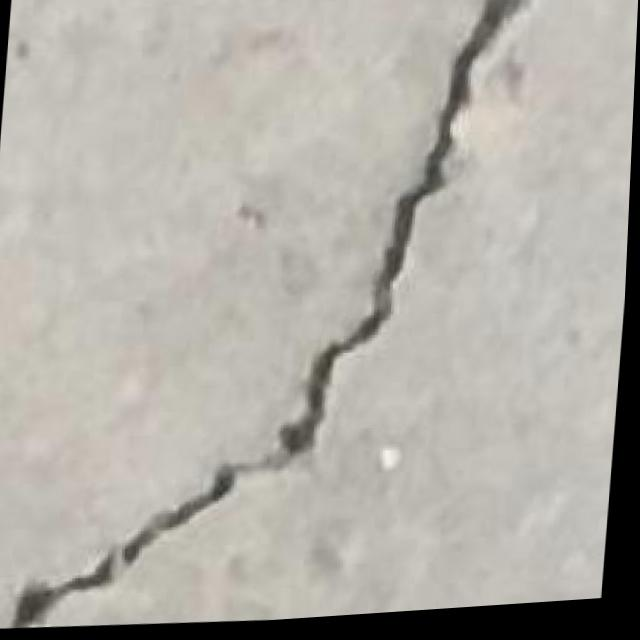Crack: (10, 0, 553, 638)
